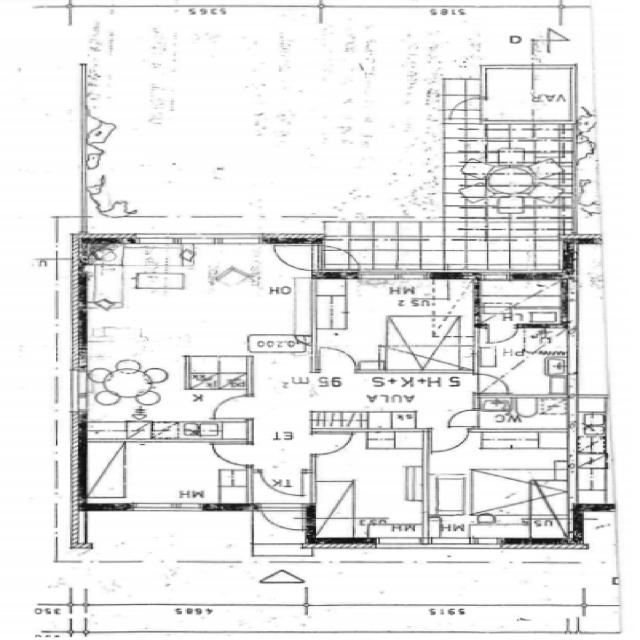door: (253, 466, 312, 498), (256, 501, 308, 533), (272, 242, 319, 273), (207, 393, 256, 422), (208, 440, 256, 468), (428, 426, 472, 455), (310, 431, 356, 457), (315, 345, 359, 372), (319, 243, 360, 271), (445, 96, 482, 121), (471, 372, 512, 394), (481, 324, 519, 346), (445, 408, 482, 429)
window: (126, 500, 208, 515), (73, 60, 95, 114), (356, 270, 433, 281), (370, 535, 426, 549), (203, 234, 265, 246), (131, 235, 179, 246), (425, 537, 474, 547), (469, 535, 506, 547), (48, 443, 63, 464)
zone: (80, 242, 311, 439), (320, 121, 572, 268), (316, 277, 474, 368), (427, 434, 572, 531), (311, 431, 428, 540), (80, 440, 252, 508), (310, 371, 476, 429), (475, 325, 571, 396), (484, 66, 574, 123), (476, 278, 568, 325), (476, 396, 571, 431)
